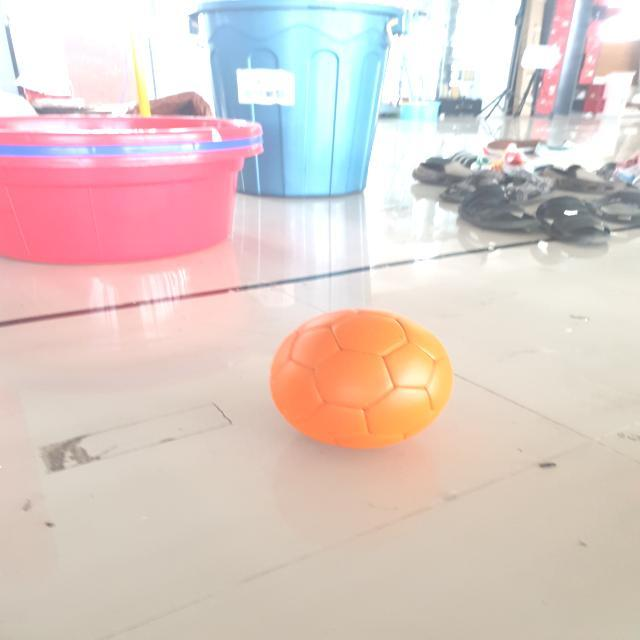bola: (264, 294, 466, 462)
